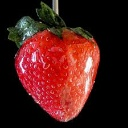strawberry: (13, 21, 101, 122)
